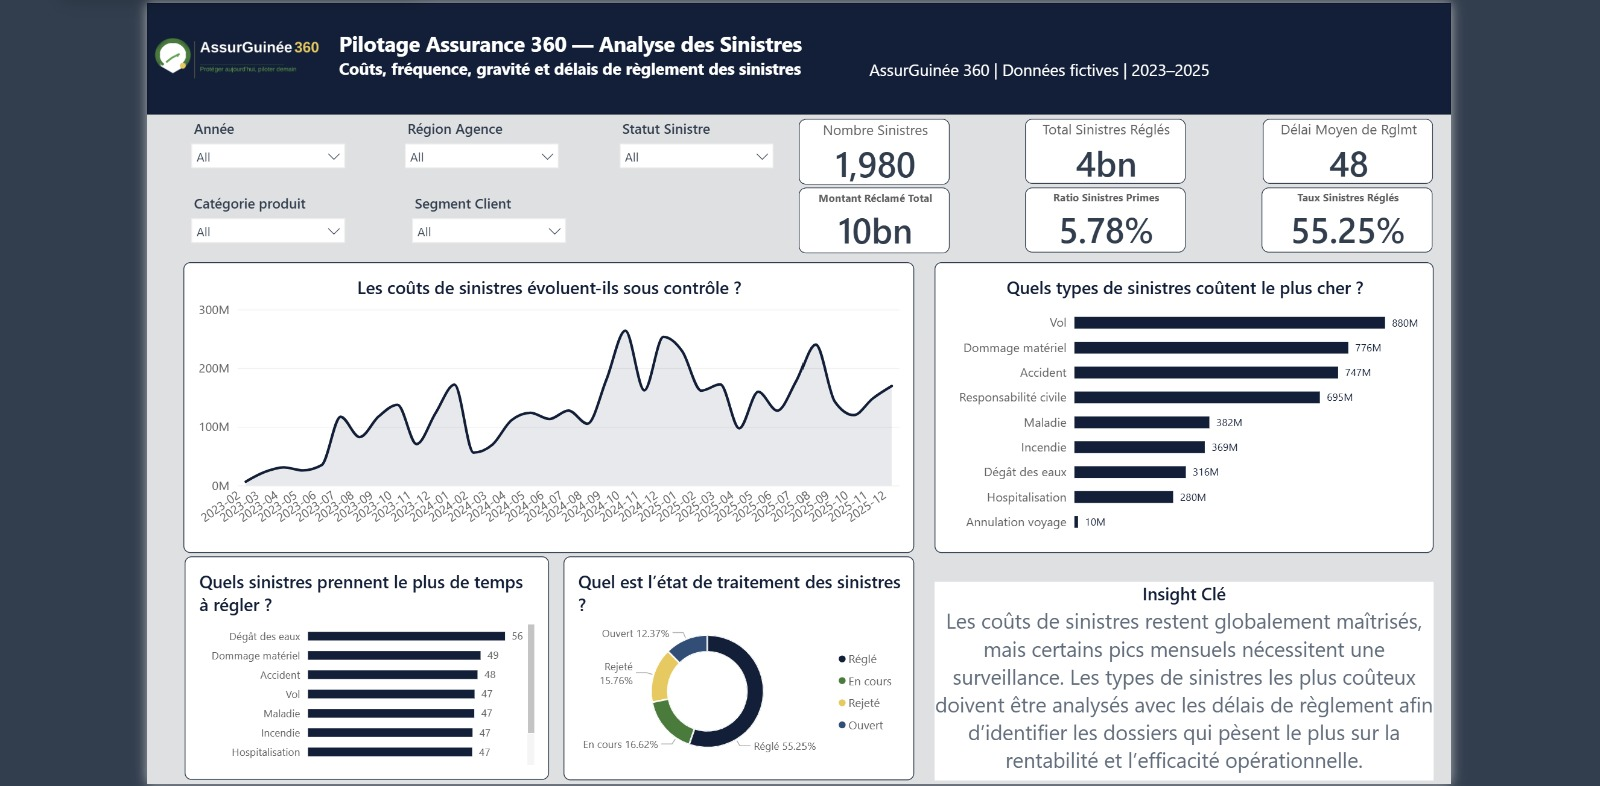

The dashboard page shown, as its layout file describes it:
{"tool":"powerbi","page":{"name":"Analyse Sinistres","canvas":[1500,900],"ordinal":2},"visuals":[{"type":"shape","box":[0,0,1500,128.6],"z":0},{"type":"image","box":[2,1,201,128],"z":1000},{"type":"textbox","box":[221.4,30,557.1,68.6],"z":2000},{"type":"textbox","box":[831,64,449,55],"z":3000},{"type":"cardVisual","fields":{"Data":["Mesures.Nombre Sinistres"]},"box":[750,132.9,173,76],"z":4000},{"type":"cardVisual","fields":{"Data":["Mesures.Total Sinistres Réglés"]},"box":[1010.3,132.9,185.4,75.7],"z":5000},{"type":"cardVisual","fields":{"Data":["Mesures.Délai Moyen de Règlement"]},"box":[1283.7,132.9,196.2,75.7],"z":6000},{"type":"cardVisual","fields":{"Data":["Mesures.Ratio Sinistres Primes"]},"box":[1010.3,213.2,185.4,75.7],"z":7000},{"type":"cardVisual","fields":{"Data":["Mesures.Taux Sinistres Réglés"]},"box":[1282.2,213.2,197.7,75.7],"z":8000},{"type":"cardVisual","fields":{"Data":["Mesures.Montant Réclamé Total"]},"box":[750,212.9,173,76],"z":9000},{"type":"slicer","fields":{"Values":["Objectifs.Annee"]},"box":[45.7,132.9,187.1,61.4],"z":10000},{"type":"slicer","fields":{"Values":["Agences.Region Agence"]},"box":[292.1,132.9,187.1,61.4],"z":11000},{"type":"slicer","fields":{"Values":["Produits.Categorie Produit"]},"box":[45.7,220,187.1,61.4],"z":12000},{"type":"slicer","fields":{"Values":["Clients.Segment Client"]},"box":[300.6,220,187.1,61.4],"z":13000},{"type":"slicer","fields":{"Values":["Sinistres.Statut Sinistre"]},"box":[538.6,132.9,187.1,61.4],"z":14000},{"type":"lineChart","title":"Les coûts de sinistres évoluent-ils sous contrôle ?","fields":{"Category":["Calendrier.Année-Mois"],"Y":["Mesures.Total Sinistres Réglés par Date Sinistre"]},"box":[41.7,298.1,840.4,335.2],"z":15000},{"type":"clusteredBarChart","title":"Quels types de sinistres coûtent le plus cher ?","fields":{"Category":["Sinistres.Type Sinistre"],"Y":["Mesures.Total Sinistres Réglés"]},"box":[905.3,298.6,574.7,335.2],"z":16000},{"type":"clusteredBarChart","title":"Quels sinistres prennent le plus de temps à régler ?","fields":{"Category":["Sinistres.Type Sinistre"],"Y":["Mesures.Délai Moyen de Règlement"]},"box":[42.7,637.9,419.4,257.3],"z":17000},{"type":"donutChart","title":"Quel est l’état de traitement des sinistres ?","fields":{"Category":["Sinistres.Statut Sinistre"],"Y":["Mesures.Nombre Sinistres"]},"box":[478.9,637.9,403.2,258],"z":18000},{"type":"textbox","title":"Insight Clé","box":[905.7,666.8,574.4,228.9],"z":19000}]}

Visuals, with their boxes on the page's 1500x900 design canvas (x1, y1, x2, y2). These are canvas units, not pixel positions in the 1600x786 screenshot, which may show the page scaled, cropped or inside an application window:
shape: locate(0, 0, 1500, 129)
image: locate(2, 1, 203, 129)
textbox: locate(221, 30, 778, 99)
textbox: locate(831, 64, 1280, 119)
cardVisual - Mesures.Nombre Sinistres: locate(750, 133, 923, 209)
cardVisual - Mesures.Total Sinistres Réglés: locate(1010, 133, 1196, 209)
cardVisual - Mesures.Délai Moyen de Règlement: locate(1284, 133, 1480, 209)
cardVisual - Mesures.Ratio Sinistres Primes: locate(1010, 213, 1196, 289)
cardVisual - Mesures.Taux Sinistres Réglés: locate(1282, 213, 1480, 289)
cardVisual - Mesures.Montant Réclamé Total: locate(750, 213, 923, 289)
slicer - Objectifs.Annee: locate(46, 133, 233, 194)
slicer - Agences.Region Agence: locate(292, 133, 479, 194)
slicer - Produits.Categorie Produit: locate(46, 220, 233, 281)
slicer - Clients.Segment Client: locate(301, 220, 488, 281)
slicer - Sinistres.Statut Sinistre: locate(539, 133, 726, 194)
"Les coûts de sinistres évoluent-ils sous contrôle ?" lineChart: locate(42, 298, 882, 633)
"Quels types de sinistres coûtent le plus cher ?" clusteredBarChart: locate(905, 299, 1480, 634)
"Quels sinistres prennent le plus de temps à régler ?" clusteredBarChart: locate(43, 638, 462, 895)
"Quel est l’état de traitement des sinistres ?" donutChart: locate(479, 638, 882, 896)
"Insight Clé" textbox: locate(906, 667, 1480, 896)
